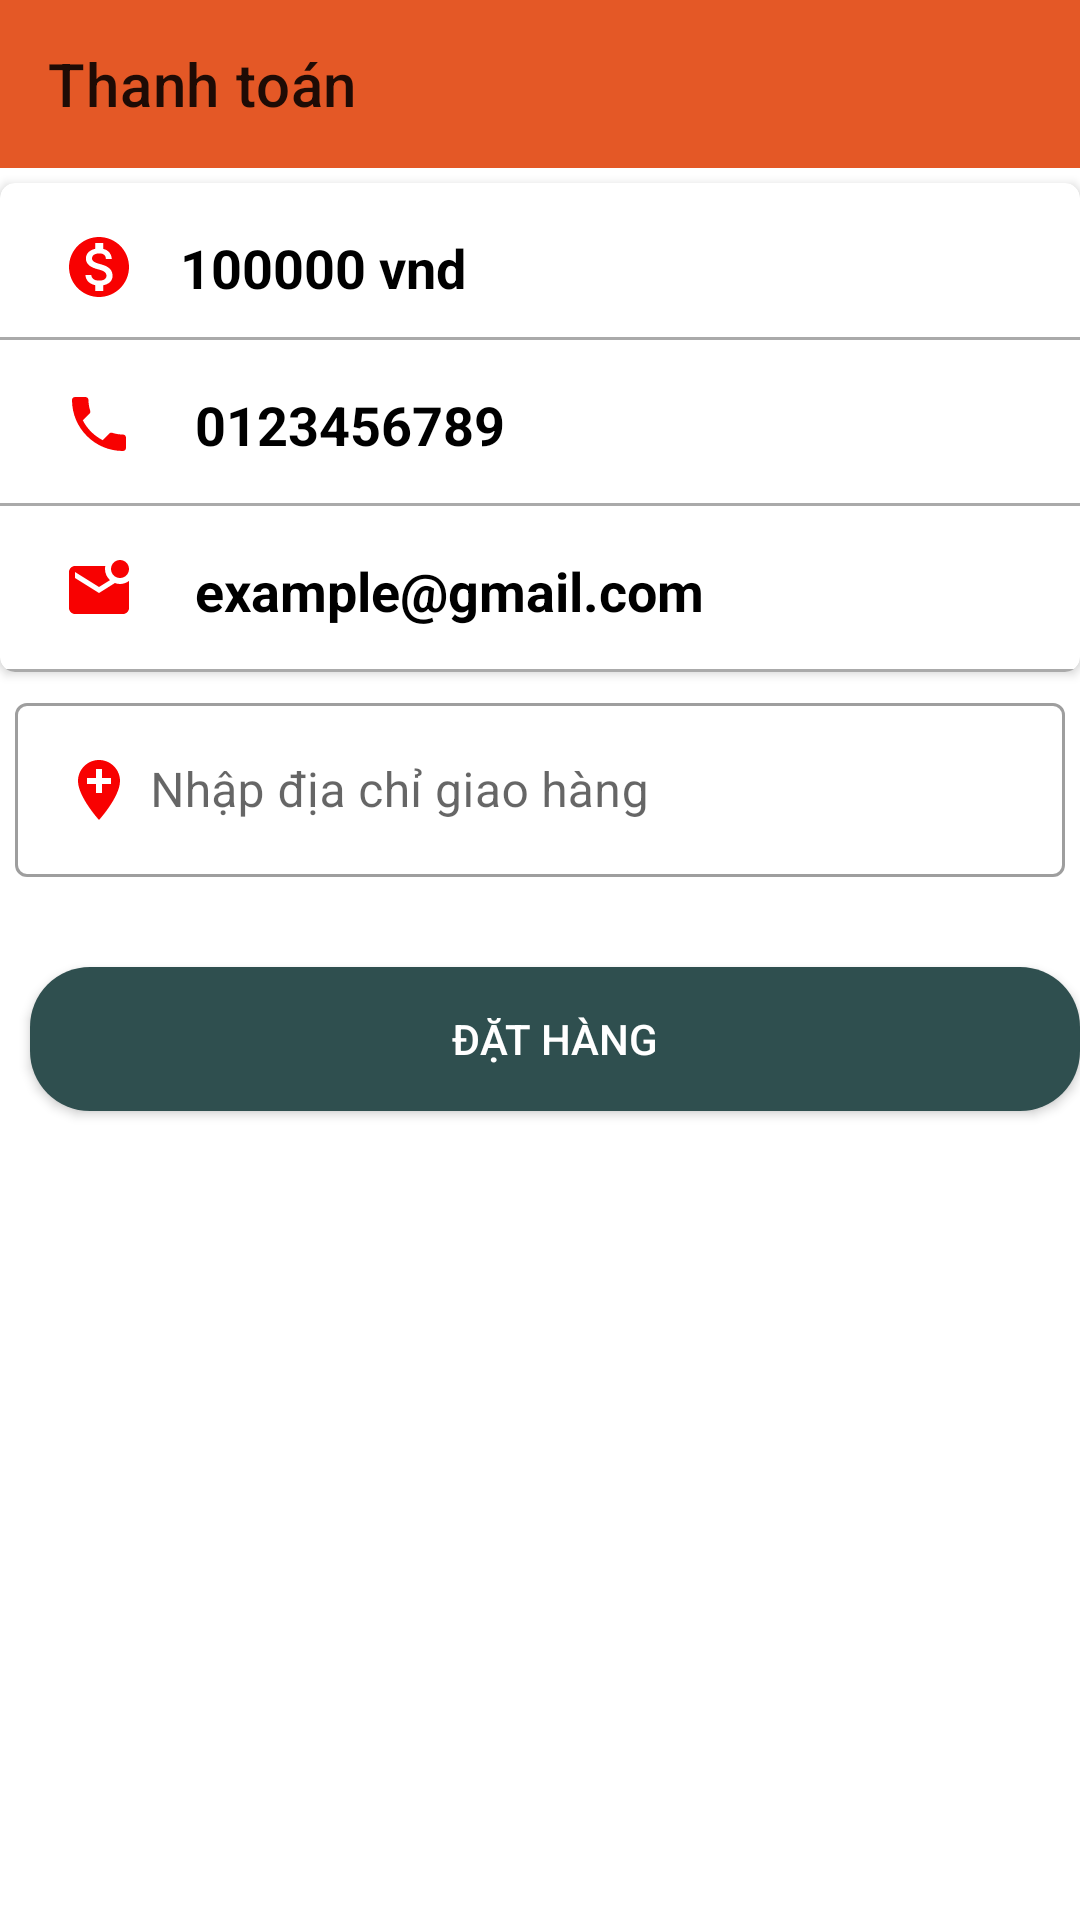

Where icons sit on this 1080 × 1920 app screen, as (x1, y1, x2, y2):
local phone: (72, 397, 126, 451)
mark email: (69, 560, 129, 614)
money: (69, 237, 129, 297)
